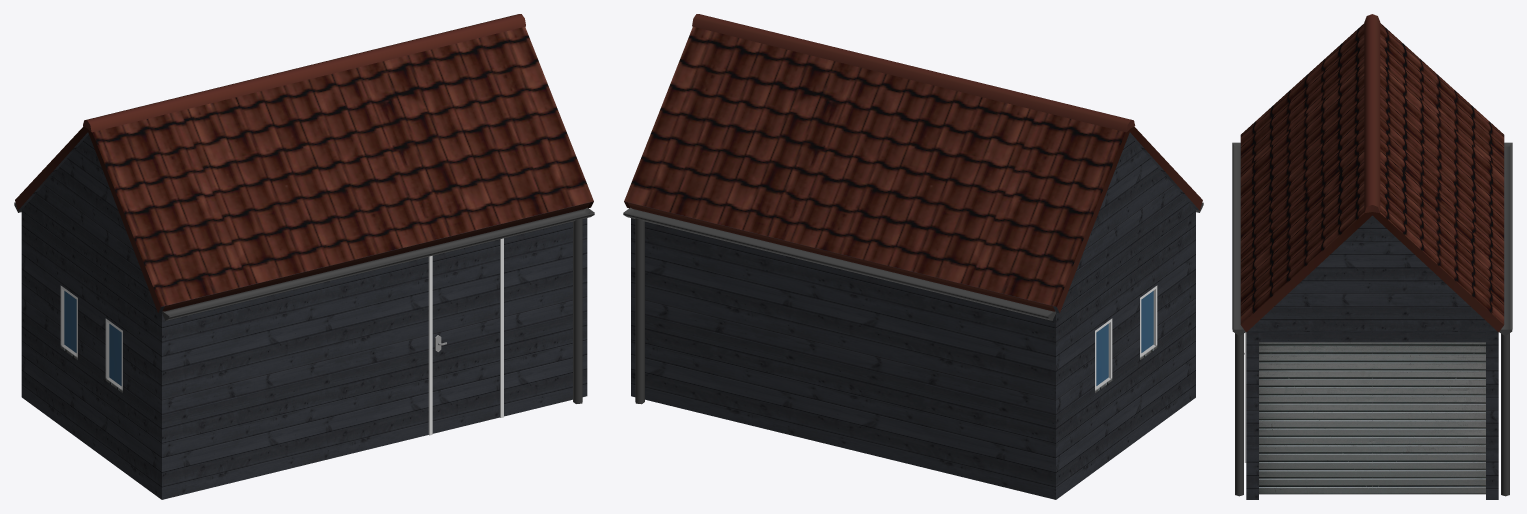
Rendered from Schuur groot deel 4.fbx.
3 views of the same model, side by side, from view 1: azimuth 30°, elevation 25°; view 2: azimuth 150°, elevation 25°; view 3: azimuth 270°, elevation 25° (orthographic). The views are drawn at different scales.
Visible parts, largest first — view 1: polySurface66; view 2: polySurface66; view 3: polySurface66.
Boxes of the visible parts, x1,y1,x2,y2 form: polySurface66: [14, 14, 594, 499]; polySurface66: [623, 14, 1203, 499]; polySurface66: [1232, 14, 1512, 499].
Size of the model in its own units: 5.36 by 3.89 by 3.32.
